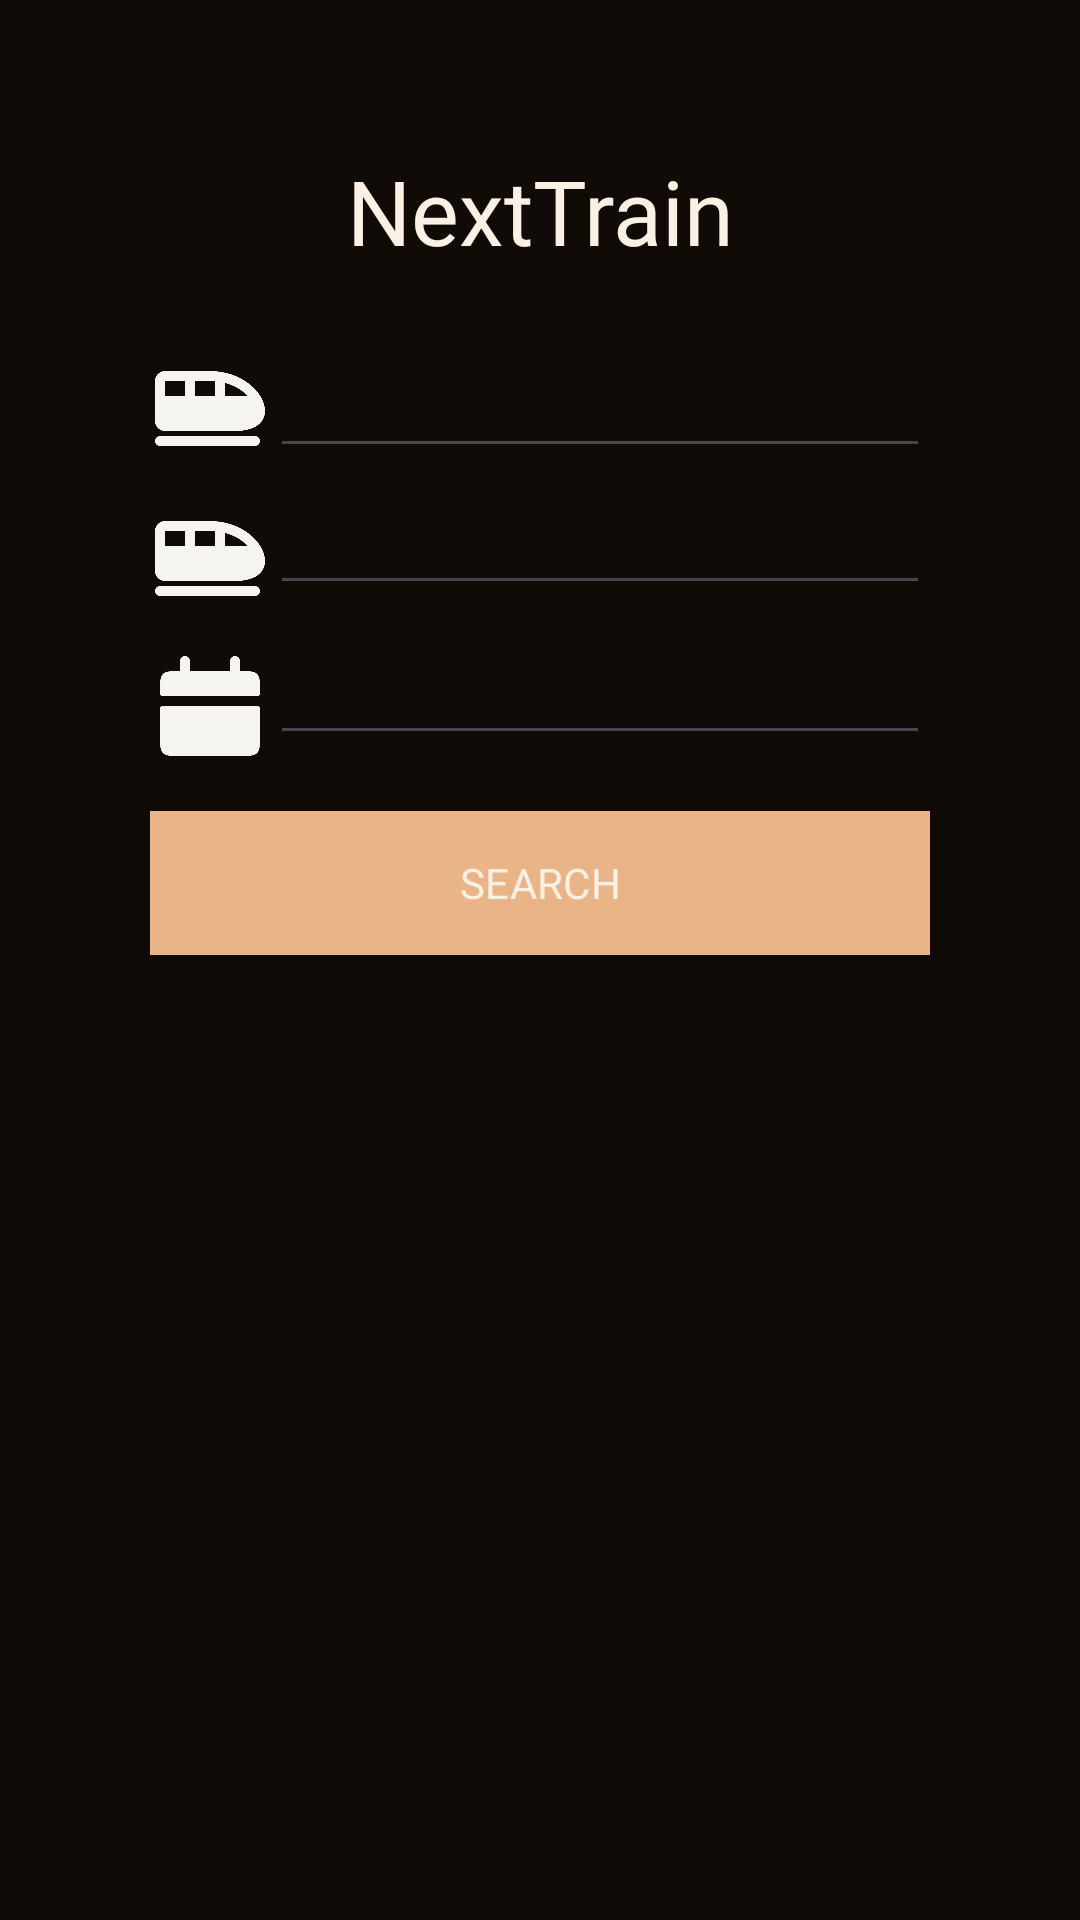

Screen size 1080 × 1920. Icon name, then its center in pixels as [x,y]:
Date Icon: [210,706]
